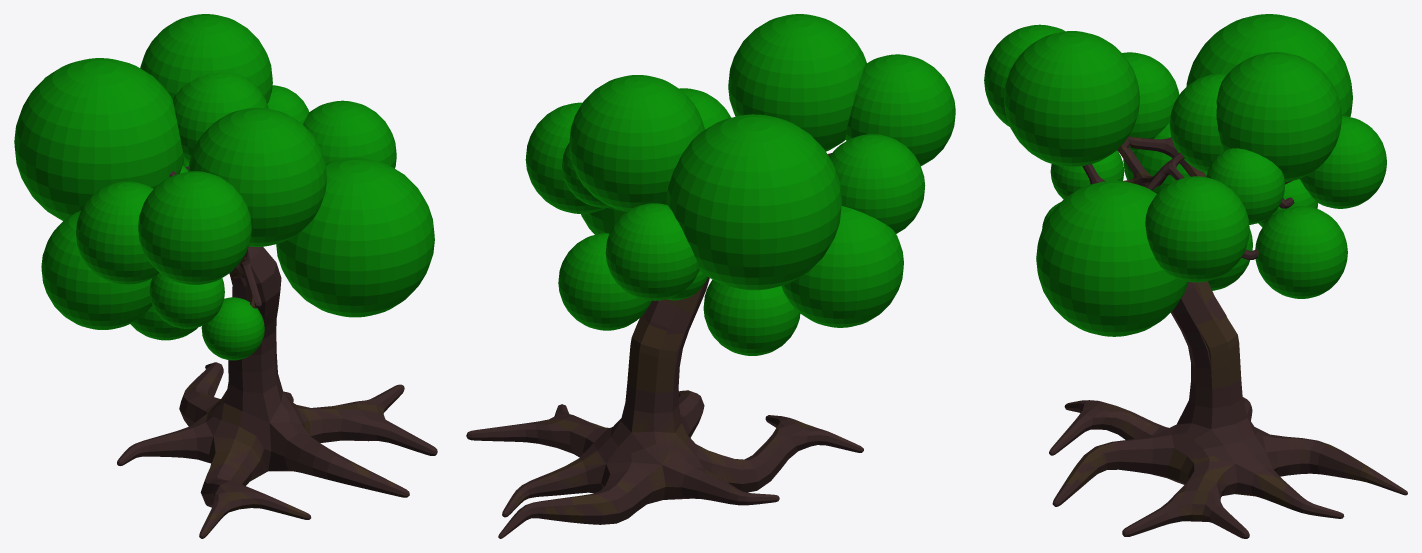
The model's file is tree.glb.
The picture shows the model from 3 angles, left to right: view 1: azimuth 30°, elevation 25°; view 2: azimuth 150°, elevation 25°; view 3: azimuth 270°, elevation 25°; orthographic projection. The views are drawn at different scales.
Visible parts, largest first — view 1: Tree Base_2, Leaf.006_10, Leaf.010_14, Leaf.015_19, Leaf.013_17, Leaf.003_7, Leaf.004_8, Leaf.012_16, Tree_3, Leaf.009_13, Leaf.007_11, Leaf.011_15 (+3 smaller); view 2: Tree Base_2, Leaf.006_10, Leaf.003_7, Leaf.015_19, Tree_3, Leaf.004_8, Leaf.013_17, Leaf.002_6, Leaf.012_16, Leaf.005_9, Leaf_4, Leaf.009_13 (+3 smaller); view 3: Tree Base_2, Leaf.010_14, Leaf.015_19, Leaf.003_7, Leaf.009_13, Tree_3, Leaf_4, Leaf.006_10, Leaf.002_6, Leaf.007_11, Leaf.008_12, Leaf.012_16 (+5 smaller).
Part boxes in pixels (x1,y1,x2,y2): Tree Base_2: (117,166,437,538); Leaf.006_10: (14,58,184,220); Leaf.010_14: (276,157,434,317); Leaf.015_19: (188,107,326,246); Leaf.013_17: (138,171,251,284); Leaf.003_7: (140,14,272,103); Leaf.004_8: (41,210,152,329); Leaf.012_16: (76,181,159,284); Tree_3: (156,254,407,535); Leaf.009_13: (303,100,396,168); Leaf.007_11: (172,72,268,162); Leaf.011_15: (149,273,224,328); Tree Base_2: (466,153,863,538); Leaf.006_10: (666,114,841,290); Leaf.003_7: (569,75,704,211); Leaf.015_19: (728,14,866,151); Tree_3: (467,153,856,538); Leaf.004_8: (781,206,903,327); Leaf.013_17: (845,54,955,165); Leaf.002_6: (605,203,699,300); Leaf.012_16: (829,134,925,233); Leaf.005_9: (703,280,800,355); Leaf_4: (558,233,651,330); Leaf.009_13: (525,102,606,213); Tree Base_2: (1049,136,1407,538); Leaf.010_14: (1036,180,1188,336); Leaf.015_19: (1004,31,1139,166); Leaf.003_7: (1216,52,1341,182); Leaf.009_13: (1145,176,1249,282); Tree_3: (1051,137,1403,521); Leaf_4: (1255,206,1347,298); Leaf.006_10: (1186,14,1352,116); Leaf.002_6: (1299,116,1386,208); Leaf.007_11: (1169,74,1226,172); Leaf.008_12: (1206,148,1284,224); Leaf.012_16: (1122,52,1179,151).
Size of the model in its own units: 4.07 by 4.35 by 3.96.
